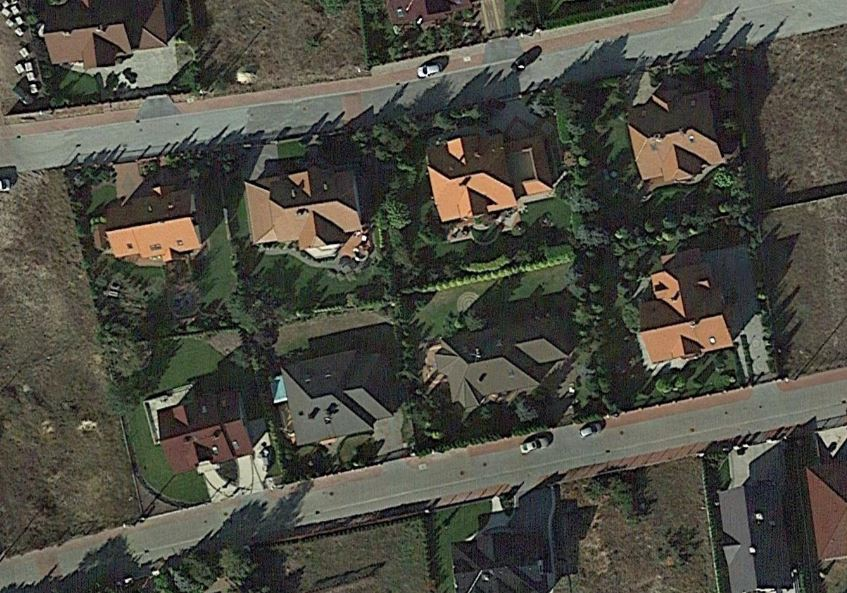family house: (431, 297, 577, 419), (419, 121, 553, 243), (240, 144, 372, 266), (628, 240, 742, 376), (282, 338, 399, 456), (619, 82, 733, 194), (33, 1, 190, 81), (149, 366, 251, 482), (98, 180, 206, 269), (451, 513, 557, 593)
